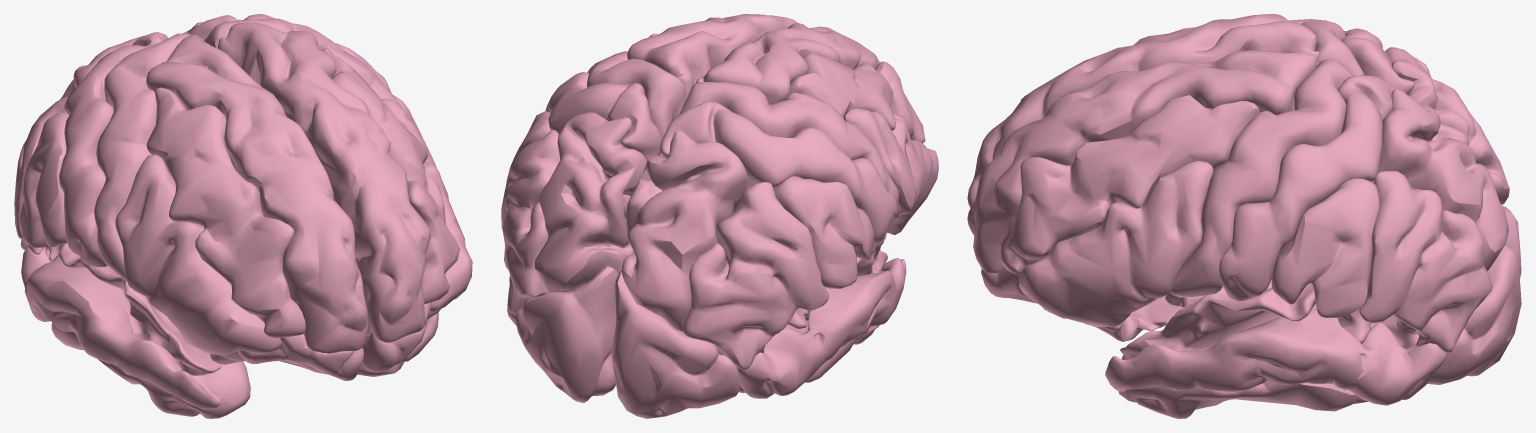
The model's file is cerebrum.glb.
3 renders of one model, left to right at view 1: azimuth 30°, elevation 25°; view 2: azimuth 150°, elevation 25°; view 3: azimuth 270°, elevation 25°, orthographic. The views are drawn at different scales.
Visible parts, largest first — view 1: grp1; view 2: grp1; view 3: grp1.
Part boxes in pixels (<box>): grp1: <box>14,14,472,418</box>; grp1: <box>501,14,938,418</box>; grp1: <box>967,14,1521,418</box>.
Bounding box in the file's own units: 0.1388 × 0.117 × 0.18.
